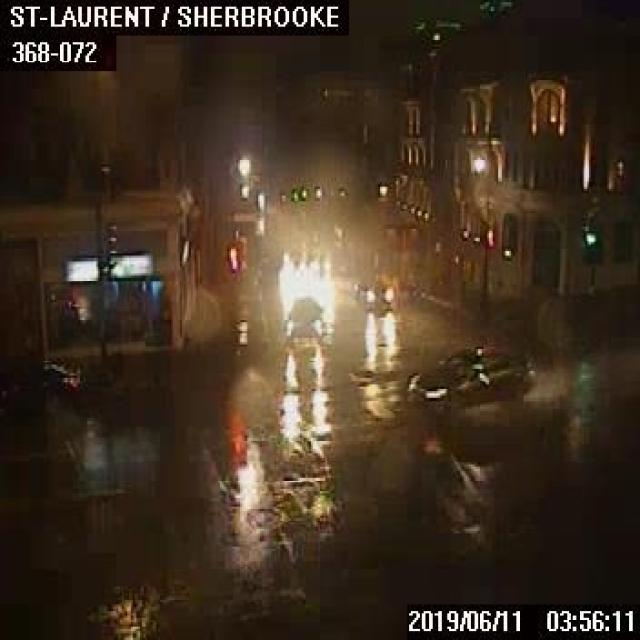vehicle: (406, 344, 534, 414), (0, 351, 82, 413), (284, 298, 324, 338), (349, 278, 393, 311)
